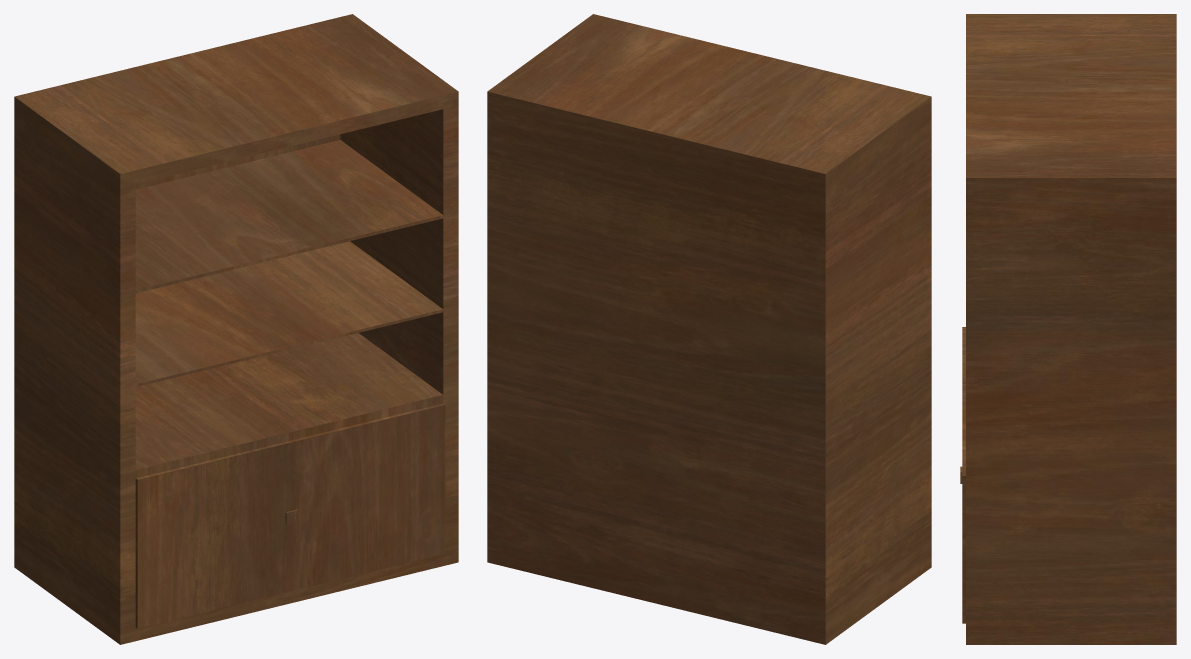
Rendered from estantedoescritorio.fbx.
3 views of the same model, side by side, from view 1: azimuth 30°, elevation 25°; view 2: azimuth 150°, elevation 25°; view 3: azimuth 270°, elevation 25° (orthographic).
Visible parts, largest first — view 1: Prateleira.Escritorio; view 2: Prateleira.Escritorio; view 3: Prateleira.Escritorio.
Boxes of the visible parts, left/top/right/bottom form: Prateleira.Escritorio: left=14, top=14, right=458, bottom=644; Prateleira.Escritorio: left=487, top=14, right=931, bottom=644; Prateleira.Escritorio: left=960, top=14, right=1176, bottom=644.
Bounding box in the file's own units: 136 × 180 × 75.56.
